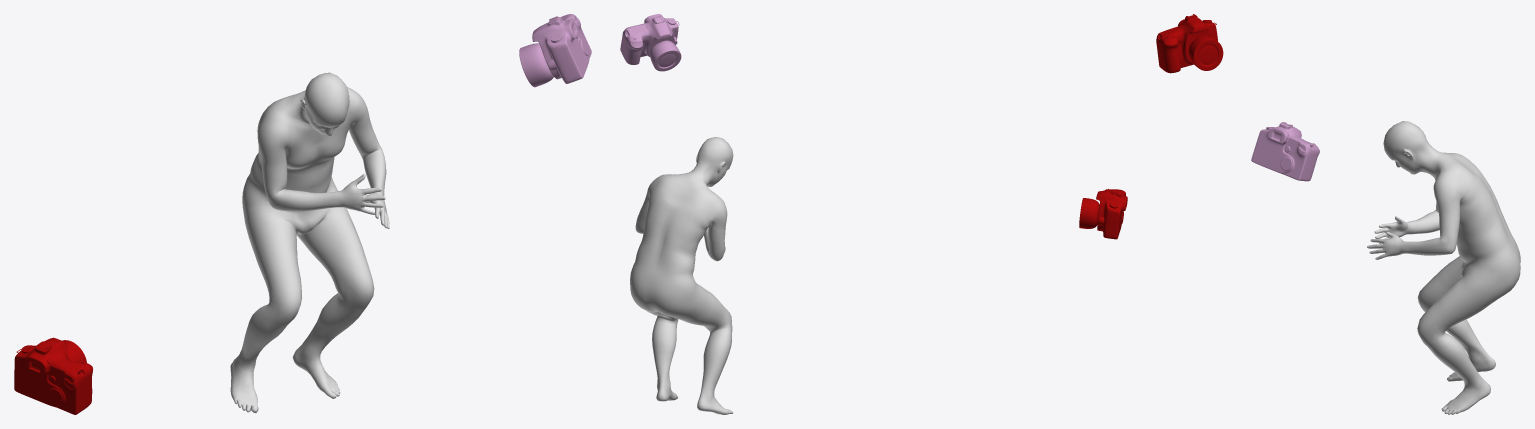
Rendered from teacher.glb.
3 views of the same model, side by side, from view 1: azimuth 30°, elevation 25°; view 2: azimuth 150°, elevation 25°; view 3: azimuth 270°, elevation 25° (orthographic). The views are drawn at different scales.
Parts seen in each view (by area): view 1: world, 10124_SLR_Camera_SG_V1_Iteration2.obj, 10124_SLR_Camera_SG_V1_Iteration2.obj:NZGKYFLLHJXS; view 2: world, 10124_SLR_Camera_SG_V1_Iteration2.obj:NZGKYFLLHJXS, 10124_SLR_Camera_SG_V1_Iteration2.obj; view 3: world, 10124_SLR_Camera_SG_V1_Iteration2.obj, 10124_SLR_Camera_SG_V1_Iteration2.obj:NZGKYFLLHJXS.
Boxes of the visible parts, <box> form: world: <box>230,72,389,413</box>; 10124_SLR_Camera_SG_V1_Iteration2.obj: <box>14,337,93,414</box>; 10124_SLR_Camera_SG_V1_Iteration2.obj:NZGKYFLLHJXS: <box>519,14,591,87</box>; world: <box>630,137,733,414</box>; 10124_SLR_Camera_SG_V1_Iteration2.obj:NZGKYFLLHJXS: <box>620,14,681,71</box>; 10124_SLR_Camera_SG_V1_Iteration2.obj: <box>1079,189,1127,239</box>; world: <box>1367,121,1520,414</box>; 10124_SLR_Camera_SG_V1_Iteration2.obj: <box>1156,14,1223,73</box>; 10124_SLR_Camera_SG_V1_Iteration2.obj:NZGKYFLLHJXS: <box>1251,122,1319,181</box>.
Size of the model in its own units: 2.7 by 1.73 by 1.7.
